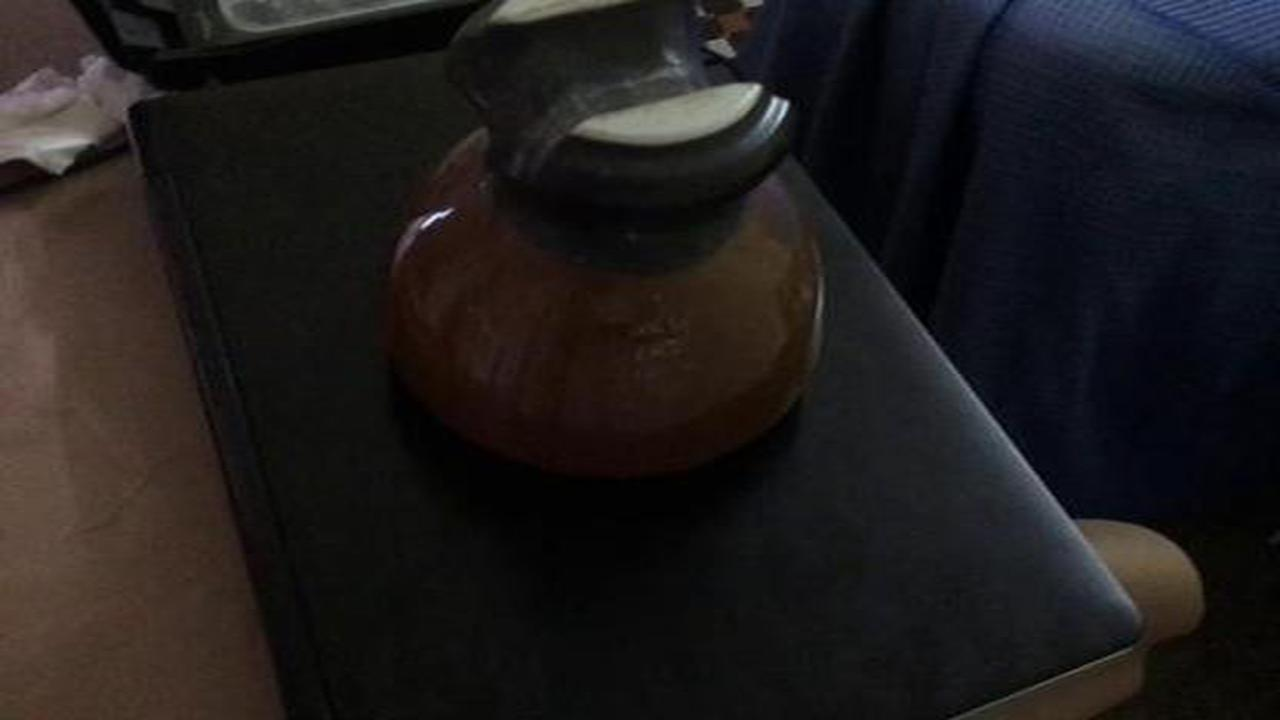insulator_pin: (357, 5, 847, 492)
